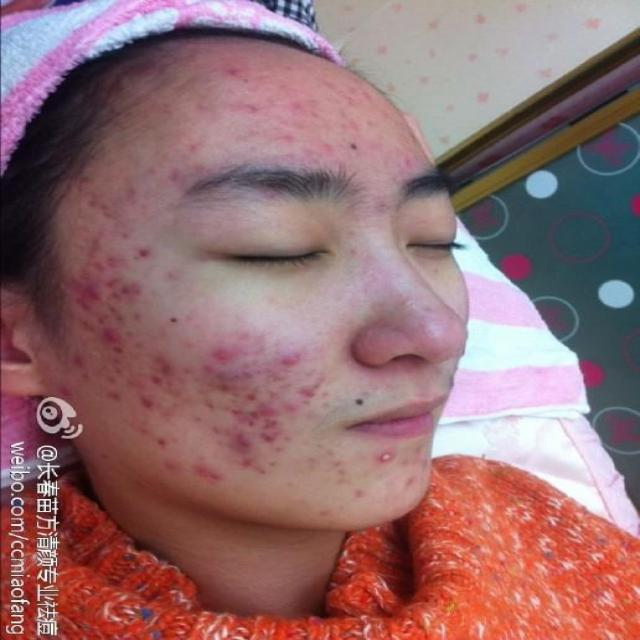Acne: (75, 231, 188, 457), (208, 70, 410, 163), (197, 333, 316, 474), (69, 158, 204, 221), (329, 454, 419, 490), (409, 294, 462, 328), (346, 381, 386, 410), (345, 242, 377, 272)
